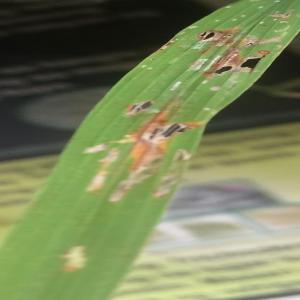Rice_Blast: (125, 103, 199, 188), (111, 79, 158, 120), (202, 53, 244, 85), (236, 44, 269, 82), (197, 19, 227, 51)
